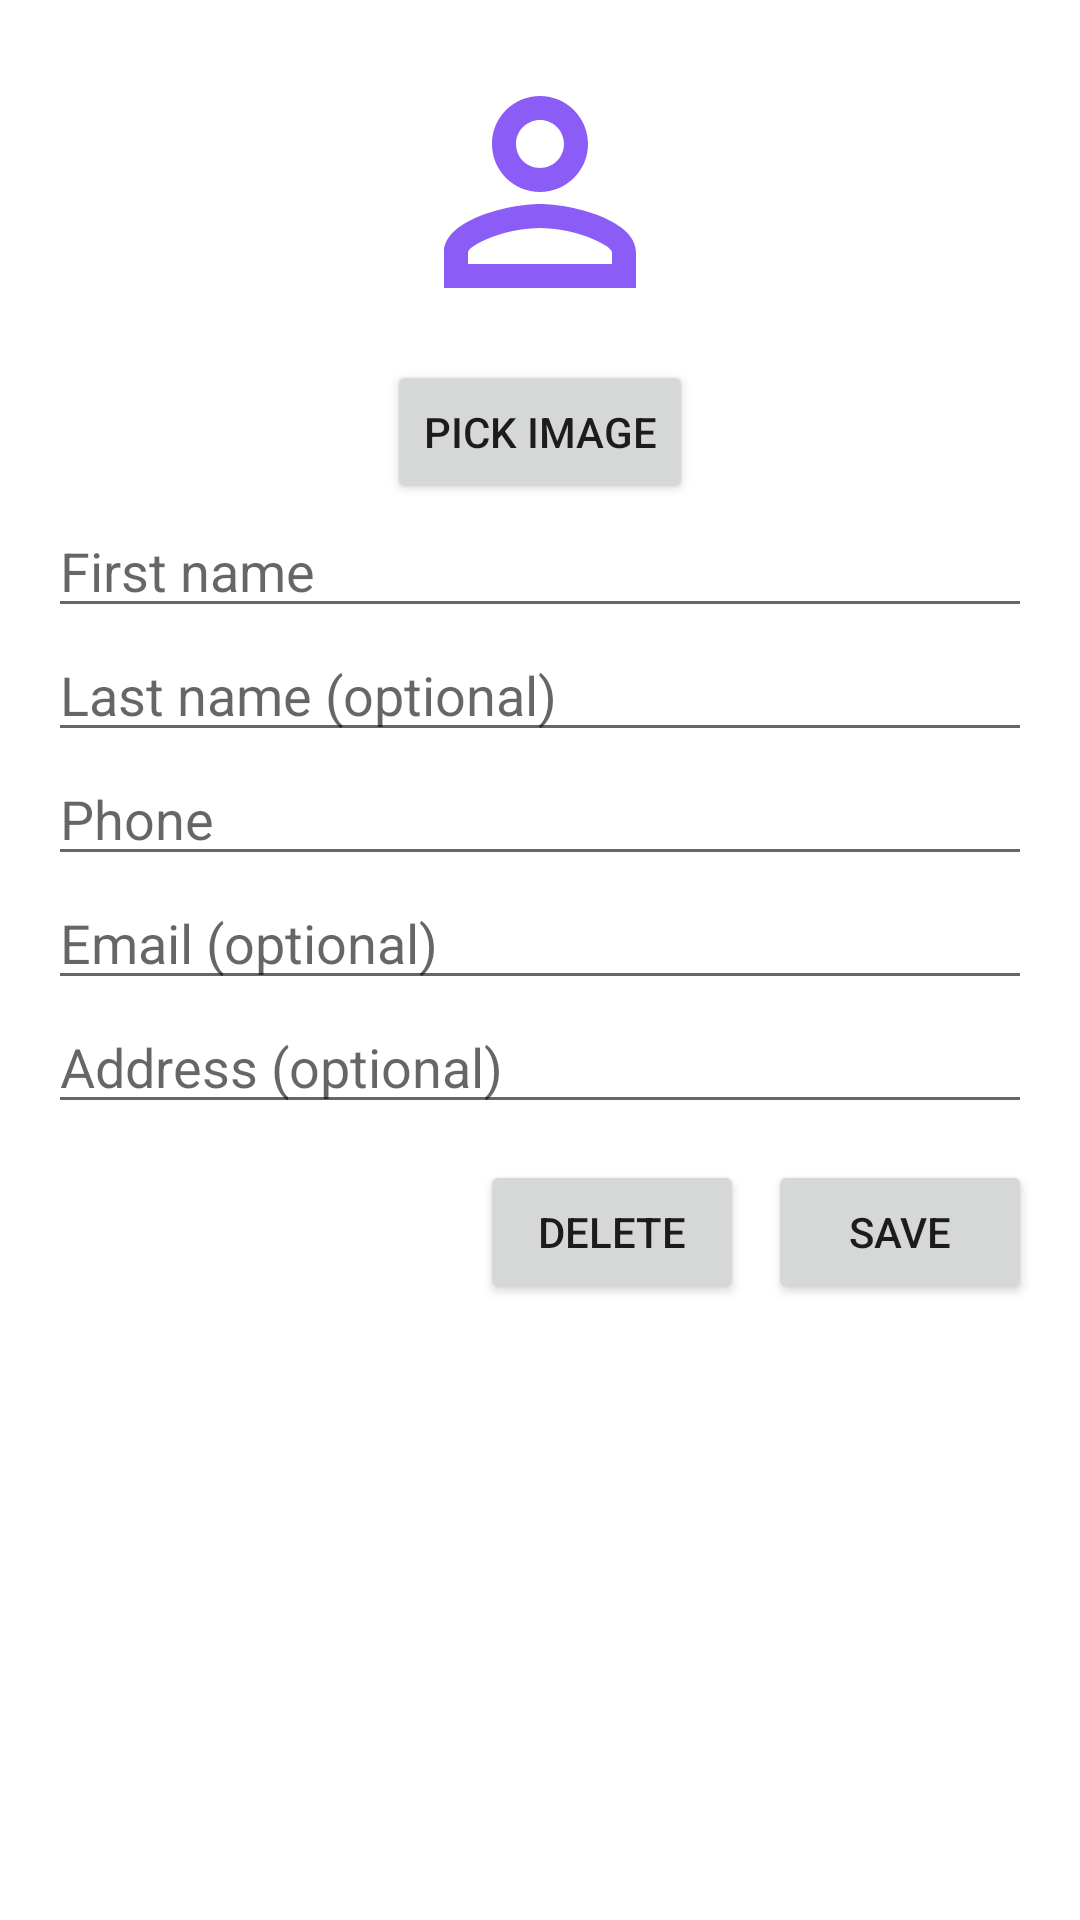

Named icons in this screenshot (1080w x 1920h) and their bounding boxes, (x1=x1, y1=y1, x2=x2, y2=y2):
Profile: (x1=444, y1=96, x2=636, y2=288)
